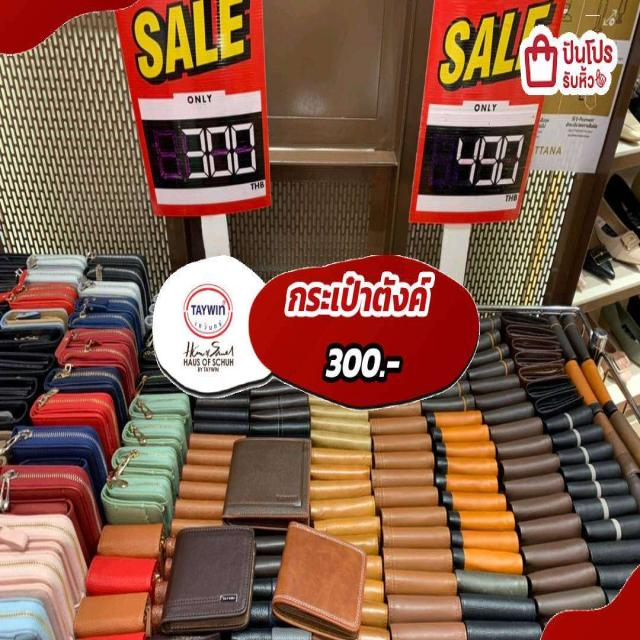Handbag: (221, 436, 312, 528)
